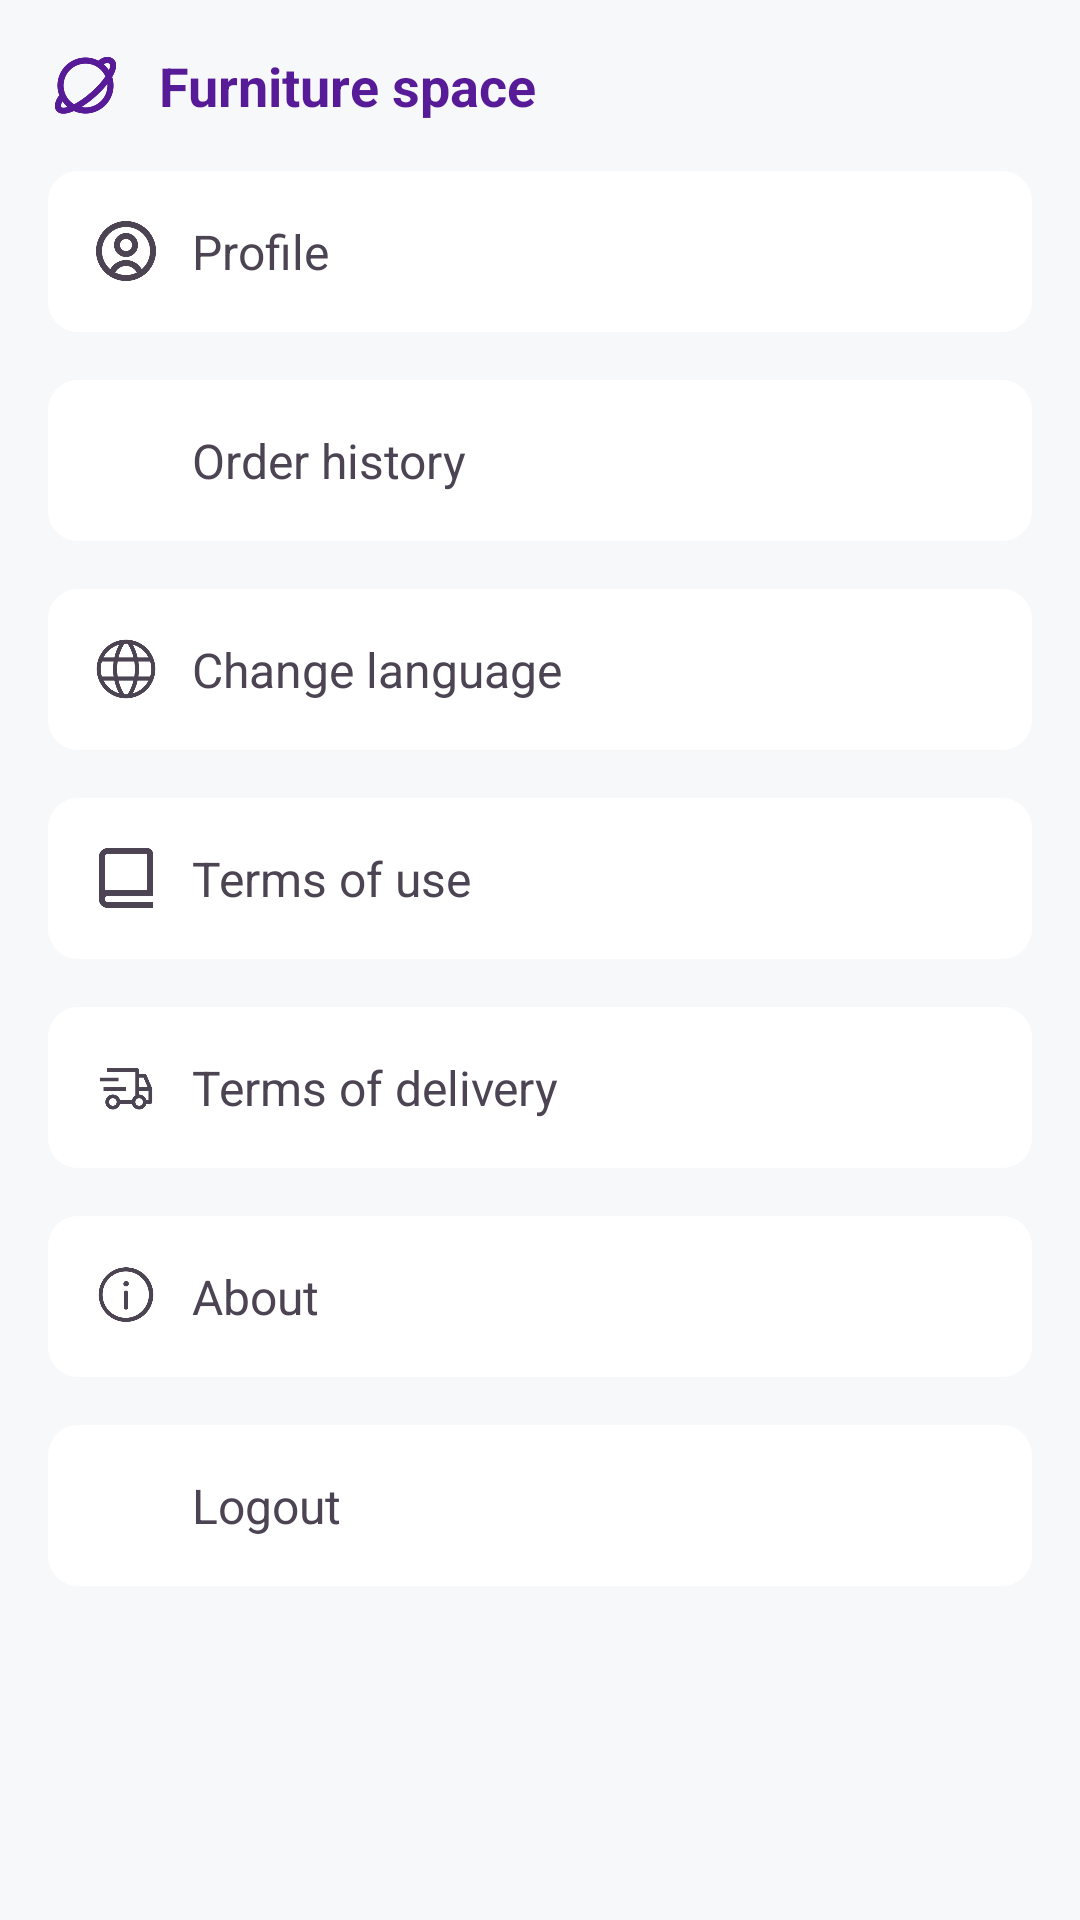

Where icons sit on this 1080w x 1920h app screen, as BBox(x1, y1, x2, y2):
languagfe: BBox(96, 639, 156, 699)
user: BBox(96, 221, 156, 281)
